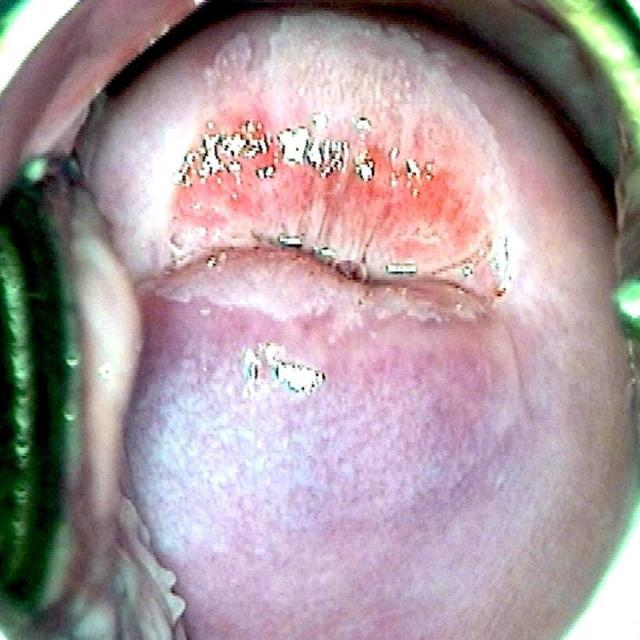cervical_lesion: (140, 18, 524, 428)
